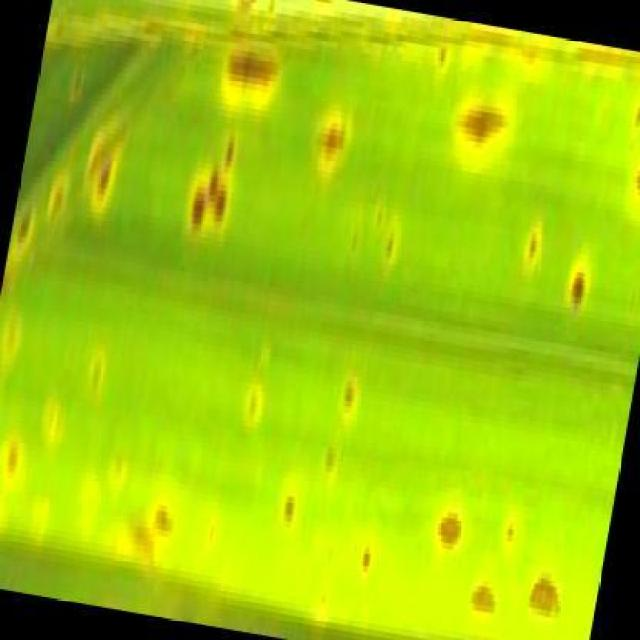Leaf_Blast: (76, 68, 141, 268), (175, 112, 251, 260), (114, 482, 181, 610), (295, 98, 368, 199), (208, 30, 289, 119), (440, 78, 518, 170), (73, 295, 124, 420), (509, 186, 557, 300), (371, 181, 414, 301), (329, 333, 376, 438), (419, 487, 478, 568), (191, 472, 235, 579), (518, 550, 573, 635), (38, 157, 76, 275), (32, 372, 78, 465), (0, 421, 38, 527), (233, 362, 279, 446), (490, 480, 530, 571), (97, 435, 141, 514), (304, 553, 344, 639), (458, 568, 508, 634), (269, 460, 305, 545), (557, 257, 598, 328), (0, 288, 26, 392), (424, 26, 459, 100), (349, 520, 382, 597), (8, 200, 41, 275), (57, 58, 94, 120), (620, 147, 640, 235), (223, 0, 263, 38), (623, 68, 640, 152), (306, 1, 342, 22)
